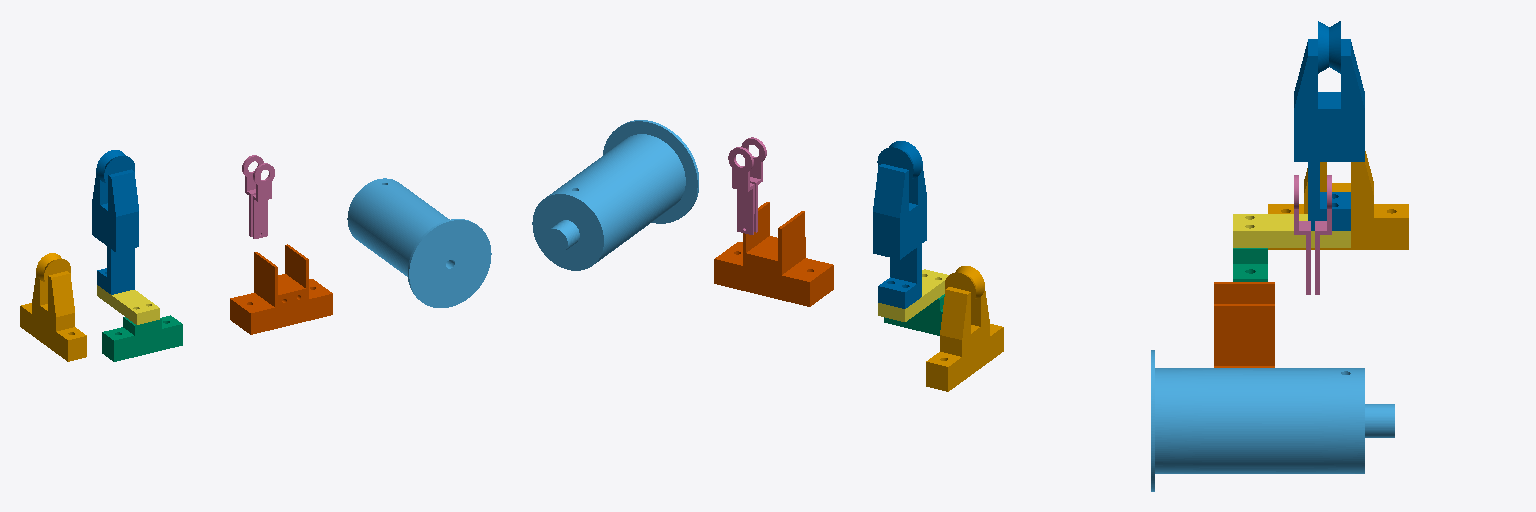
URDF robot description (robot):
<robot name="robot">
    <link name="base_link">
        <visual>
            <origin rpy="1.57 0 1.57" xyz="0 0 0" />
            <geometry>
                <mesh filename="package://PID/meshs/side.stl" scale="0.1 0.1 0.1"/>
            </geometry>
        </visual>
    </link>
    <link name="dc_roller">
        <visual>
            <origin rpy="1.57 0 0" xyz="0 0 0" />
            <geometry>
                <mesh filename="package://PID/meshs/dc_roll.stl" scale="0.1 0.1 0.1"/>
            </geometry>
        </visual>
    </link>
    <link name="loadcell_plate">
        <visual>
            <origin rpy="1.57 0 0" xyz="0 0 0" />
            <geometry>
                <mesh filename="package://PID/meshs/loadcell_plate.stl" scale="0.1 0.1 0.1"/>
            </geometry>
        </visual>
    </link>
    <link name="loadcell">
        <visual>
            <origin rpy="1.57 0 1.57" xyz="0 0 0" />
            <geometry>
                <mesh filename="package://PID/meshs/loadcell.stl" scale="0.1 0.1 0.1"/>
            </geometry>
        </visual>
    </link>
    <link name="loadcell_pressure">
        <visual>
            <origin rpy="1.57 0 1.57" xyz="0 0 0" />
            <geometry>
                <mesh filename="package://PID/meshs/loadcell_pressure.stl" scale="0.1 0.1 0.1"/>
            </geometry>
        </visual>
    </link>
    <link name="servo_support">
        <visual>
            <origin rpy="1.57 0 0" xyz="0 0 0" />
            <geometry>
                <mesh filename="package://PID/meshs/servo_support.stl" scale="0.1 0.1 0.1"/>
            </geometry>
        </visual>
    </link>
    <link name="servo_arm">
        <visual>
            <origin rpy="3.14 0 1.57" xyz="0 0 1" />
            <geometry>
                <mesh filename="package://PID/meshs/servo_arm.stl" scale="0.1 0.1 0.1"/>
            </geometry>
        </visual>
    </link>


    <joint name="base_to_dc" type="fixed">
        <parent link="base_link" />
        <child link="dc_roller" />
        <origin xyz="25 -8 3" rpy="0 0 0" />
        <axis xyz="0 1 0" />
        <!-- <limit lower="-3.14" upper="3.14" effort="20" velocity="5" /> -->
    </joint>


    <joint name="j2" type="fixed">
        <parent link="base_link" />
        <child link="loadcell_plate" />
        <origin xyz="5 -3 0" rpy="0 0 0" />
        <axis xyz="0 0 0" />
        <!-- <limit lower="-3.14" upper="3.14" effort="20" velocity="5" /> -->
    </joint>

    <joint name="j3" type="fixed">
        <parent link="loadcell_plate" />
        <child link="loadcell" />
        <origin xyz="0 1 3" rpy="0 0 0" />
        <axis xyz="0 0 0" />
        <!-- <limit lower="-3.14" upper="3.14" effort="20" velocity="5" /> -->
    </joint>

    <joint name="j4" type="fixed">
        <parent link="loadcell_plate" />
        <child link="loadcell_pressure" />
        <origin xyz="0 2.6 4" rpy="0 0 0" />
        <axis xyz="0 0 0" />
        <!-- <limit lower="-3.14" upper="3.14" effort="20" velocity="5" /> -->
    </joint>

    <joint name="j5" type="fixed">
        <parent link="base_link" />
        <child link="servo_support" />
        <origin xyz="15 -4 0" rpy="0 0 0" />
        <axis xyz="0 0 0" />
        <!-- <limit lower="-3.14" upper="3.14" effort="20" velocity="5" /> -->
    </joint>

    <joint name="servo_to_arm" type="revolute">
        <parent link="servo_support" />
        <child link="servo_arm" />
        <origin xyz="0 3 5" rpy="0 0 0" />
        <axis xyz="0 1 0" />
        <limit lower="-0.8" upper="2.35" effort="20" velocity="5" />
    </joint>

</robot>

--- Render facts (derived) ---
3 views of the same robot in one strip: view 1: azimuth 30°, elevation 25°; view 2: azimuth 150°, elevation 25°; view 3: azimuth 270°, elevation 25° (orthographic).
Robot: robot — 7 links, 6 joints (1 revolute, 5 fixed); root link base_link; default pose: every joint at zero.
Visible links, largest first — view 1: dc_roller, servo_support, loadcell_pressure, base_link, loadcell_plate, servo_arm, loadcell; view 2: dc_roller, loadcell_pressure, servo_support, base_link, servo_arm, loadcell, loadcell_plate; view 3: dc_roller, loadcell_pressure, servo_support, base_link, loadcell, servo_arm, loadcell_plate.
Link boxes in pixels (x1,y1,x2,y2): dc_roller: [347, 178, 491, 307]; servo_support: [230, 244, 332, 334]; loadcell_pressure: [92, 150, 138, 294]; base_link: [20, 253, 86, 361]; loadcell_plate: [102, 315, 182, 361]; servo_arm: [242, 155, 274, 238]; loadcell: [97, 285, 159, 324]; dc_roller: [532, 120, 698, 270]; loadcell_pressure: [873, 141, 926, 308]; servo_support: [714, 202, 833, 306]; base_link: [926, 266, 1003, 391]; servo_arm: [728, 137, 766, 234]; loadcell: [878, 269, 948, 321]; loadcell_plate: [884, 294, 944, 335]; dc_roller: [1151, 350, 1394, 491]; loadcell_pressure: [1294, 21, 1364, 230]; servo_support: [1214, 282, 1274, 367]; base_link: [1268, 151, 1408, 249]; loadcell: [1233, 214, 1350, 247]; servo_arm: [1294, 175, 1331, 294]; loadcell_plate: [1233, 248, 1267, 281].
Bounding box of the posed robot: 28.29 × 11 × 12.34 m (x, y, z).
Meshes: 7 distinct files referenced, 7 mesh visuals loaded (7 binary STL).